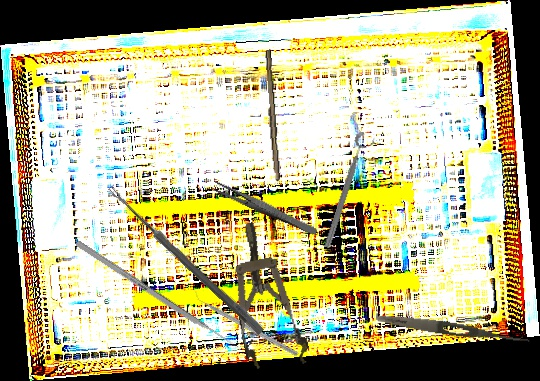Chopper: (189, 288, 303, 357)
Dressing Forceps: (210, 179, 320, 237), (374, 311, 532, 347)
Fixation Ring: (320, 130, 377, 252)
Pusher: (74, 240, 244, 353)
Scalpel Handle: (261, 49, 283, 182)
Speculum: (219, 216, 312, 375)
Surgical Spoon: (105, 185, 266, 335)
